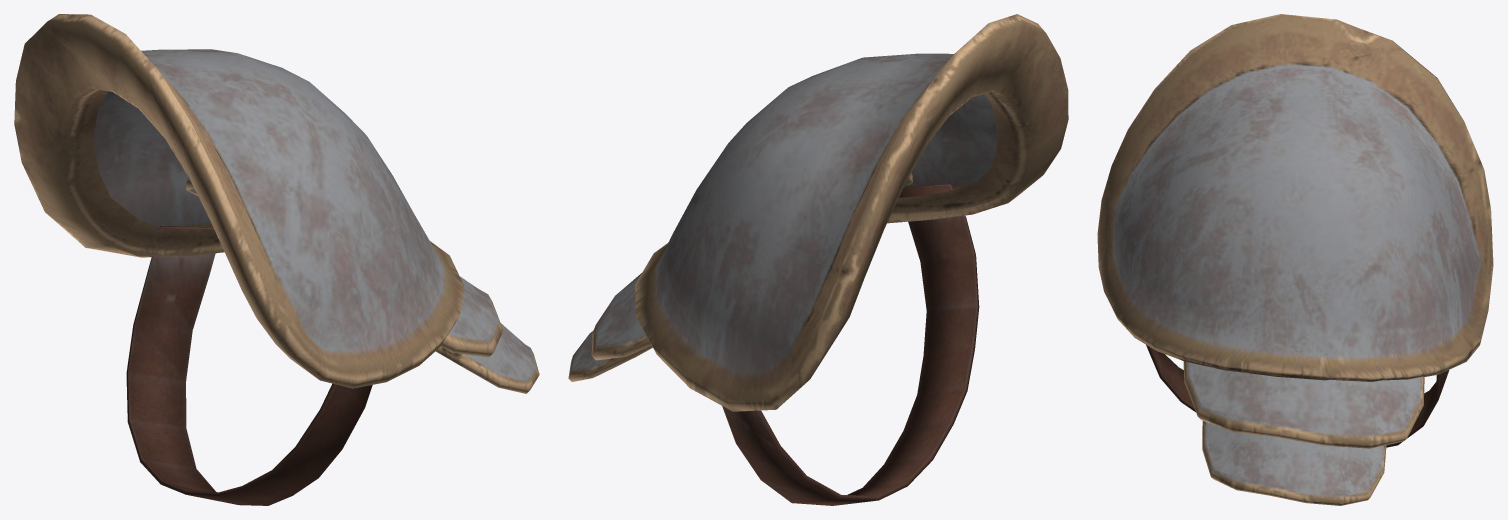
Rendered from shoulder_armor-a71778444187.glb.
3 renders of one model, left to right at view 1: azimuth 30°, elevation 25°; view 2: azimuth 150°, elevation 25°; view 3: azimuth 270°, elevation 25°, orthographic. The views are drawn at different scales.
Parts seen in each view (by area): view 1: Object_3; view 2: Object_3; view 3: Object_3.
Boxes of the visible parts, x1,y1,x2,y2 form: Object_3: (14, 14, 539, 505); Object_3: (568, 14, 1068, 505); Object_3: (1097, 14, 1493, 505).
Size of the model in its own units: 32.62 by 37.76 by 34.12.
Materials: 1 (1 with a texture image).
